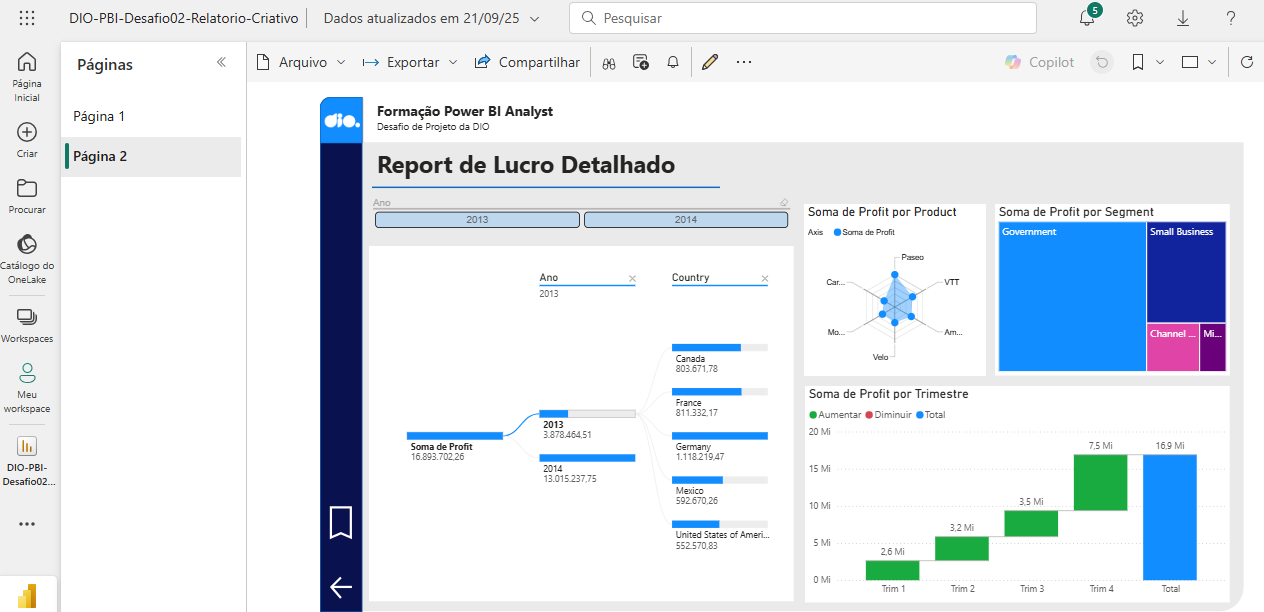

The page's visual inventory and layout, read from the dashboard file:
{"tool":"powerbi","page":{"name":"Página 2","canvas":[1280,720],"ordinal":1},"visuals":[{"type":"shape","box":[42.6,20.7,1225.3,699.3],"z":0},{"type":"shape","box":[83.4,121,472.7,44.4],"z":0,"group":"g1"},{"type":"textbox","box":[84.8,84.9,469.9,62.4],"z":1000,"group":"g1"},{"type":"shape","box":[12.4,20.2,57.7,699.8],"z":1000},{"type":"shape","box":[12.4,20.6,57.7,63.2],"z":2000},{"type":"image","box":[13.7,33,57.7,39.9],"z":3000},{"type":"shape","title":"Fundo do Título","box":[71.5,20.6,1198.9,61.9],"z":4000},{"type":"textbox","title":"Título do report","box":[83.9,22,378.1,63.2],"z":5000},{"type":"shape","box":[79.4,223.3,577,482.6],"z":6000},{"type":"decompositionTreeVisual","fields":{"Analyze":["Sum(financials.Profit)"],"ExplainBy":["financials.Date.Variation.Hierarquia de datas.Ano","financials.Country"]},"box":[100.4,239.8,539.6,458.6],"z":7000},{"type":"waterfallChart","fields":{"Category":["financials.Date.Variation.Hierarquia de datas.Trimestre"],"Y":["Sum(financials.Profit)"]},"box":[670.9,412.5,577.4,294.2],"z":8000},{"type":"treemap","fields":{"Values":["Sum(financials.Profit)"],"Group":["financials.Segment"]},"box":[929.3,165.4,319,232.7],"z":9000},{"type":"actionButton","box":[22,666.8,48.1,39.9],"z":10000},{"type":"group","id":"g1","title":"Sales report","box":[83.4,84.9,472.7,80.5],"z":11000},{"type":"actionButton","box":[12.8,545.8,57,105.5],"z":12000},{"type":"ChicletSlicer1448559807354","fields":{"Category":["financials.Date.Variation.Hierarquia de datas.Ano"]},"box":[79,150.7,576.6,71.7],"z":13000},{"type":"RadarChart1446119667547","fields":{"Y":["Sum(financials.Profit)"],"Category":["financials.Product"]},"box":[670.2,165.4,245.9,232.7],"z":14000}]}

Visuals, with their boxes on the page's 1280x720 design canvas (x1, y1, x2, y2). These are canvas units, not pixel positions in the 1264x612 screenshot, which may show the page scaled, cropped or inside an application window:
shape: [43, 21, 1268, 720]
shape: [83, 121, 556, 165]
textbox: [85, 85, 555, 147]
shape: [12, 20, 70, 720]
shape: [12, 21, 70, 84]
image: [14, 33, 71, 73]
"Fundo do Título" shape: [72, 21, 1270, 82]
"Título do report" textbox: [84, 22, 462, 85]
shape: [79, 223, 656, 706]
decompositionTreeVisual - Sum(financials.Profit) x financials.Date.Variation.Hierarquia de datas.Ano: [100, 240, 640, 698]
waterfallChart - financials.Date.Variation.Hierarquia de datas.Trimestre x Sum(financials.Profit): [671, 412, 1248, 707]
treemap - Sum(financials.Profit) x financials.Segment: [929, 165, 1248, 398]
actionButton: [22, 667, 70, 707]
"Sales report" group: [83, 85, 556, 165]
actionButton: [13, 546, 70, 651]
ChicletSlicer1448559807354 - financials.Date.Variation.Hierarquia de datas.Ano: [79, 151, 656, 222]
RadarChart1446119667547 - Sum(financials.Profit) x financials.Product: [670, 165, 916, 398]
